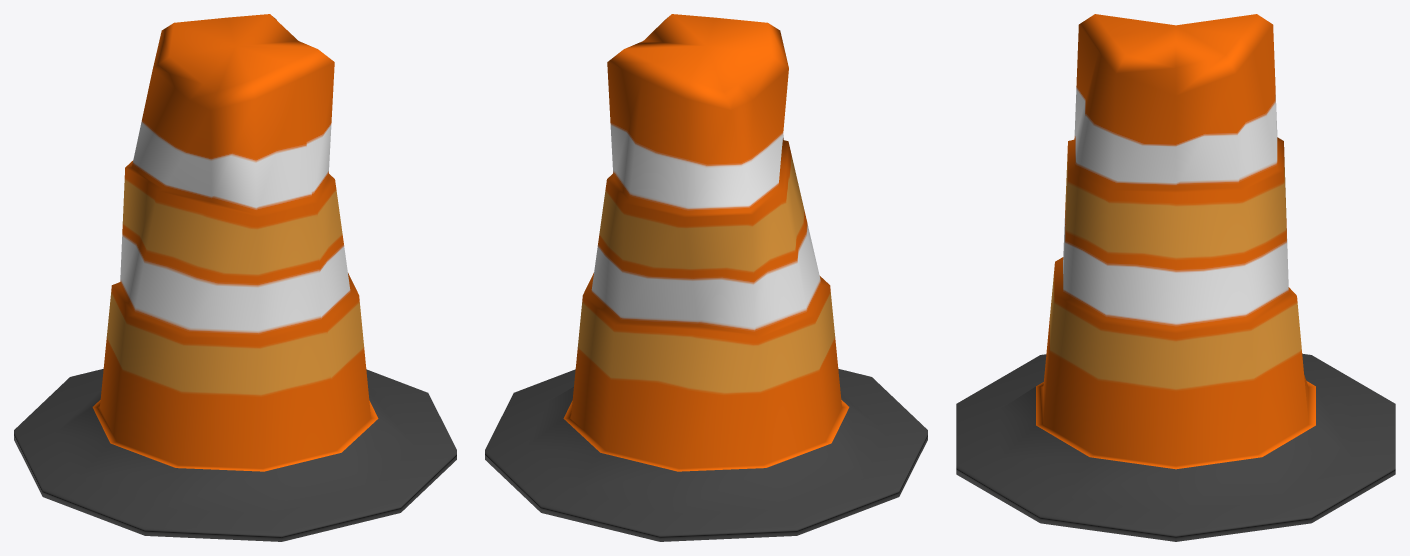
File: BarrelTrafficConeFBX.fbx
The picture shows the model from 3 angles, left to right: view 1: azimuth 30°, elevation 25°; view 2: azimuth 150°, elevation 25°; view 3: azimuth 270°, elevation 25°; orthographic projection. The views are drawn at different scales.
Parts seen in each view (by area): view 1: pCylinder1; view 2: pCylinder1; view 3: pCylinder1.
Part boxes in pixels (x1=…): pCylinder1: x1=14, y1=14, x2=456, y2=541; pCylinder1: x1=485, y1=14, x2=927, y2=541; pCylinder1: x1=956, y1=14, x2=1395, y2=541.
Bounding box in the file's own units: 4 × 4.01 × 3.8.
